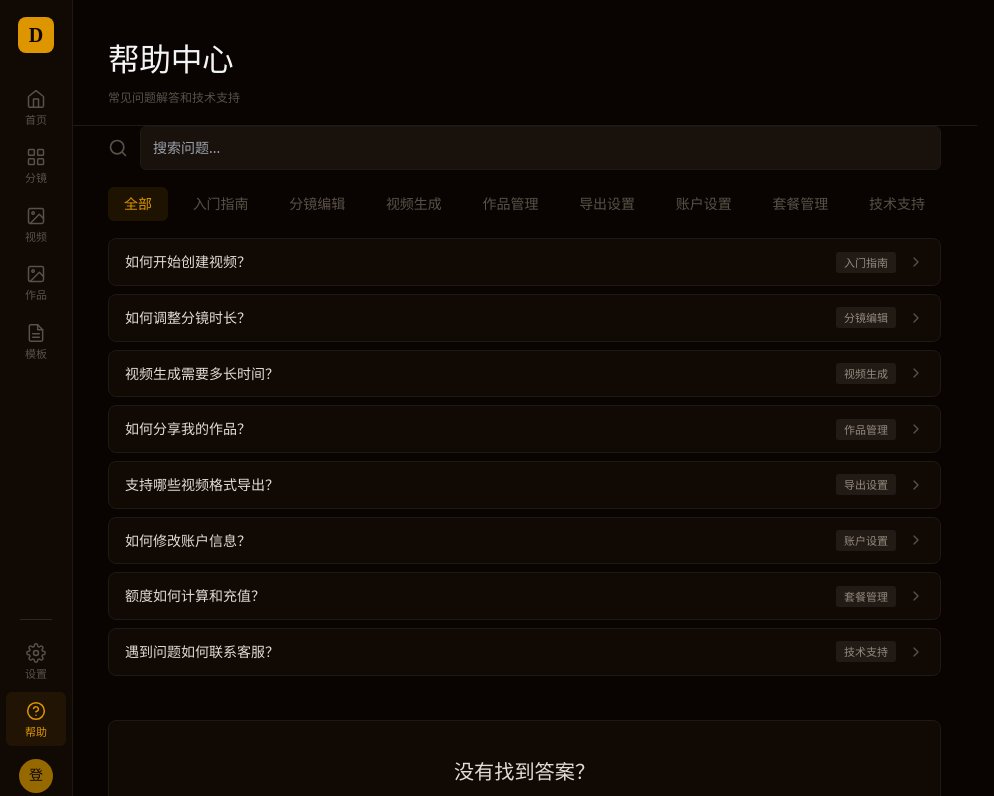
Scenario: 帮助页面测试 › FAQ展开/折叠测试 › 再次点击FAQ折叠答案
This screenshot has width=994, height=796.
Click the button "如何开始创建视频？ 入门指南": [188, 262] box [109,239,940,285]
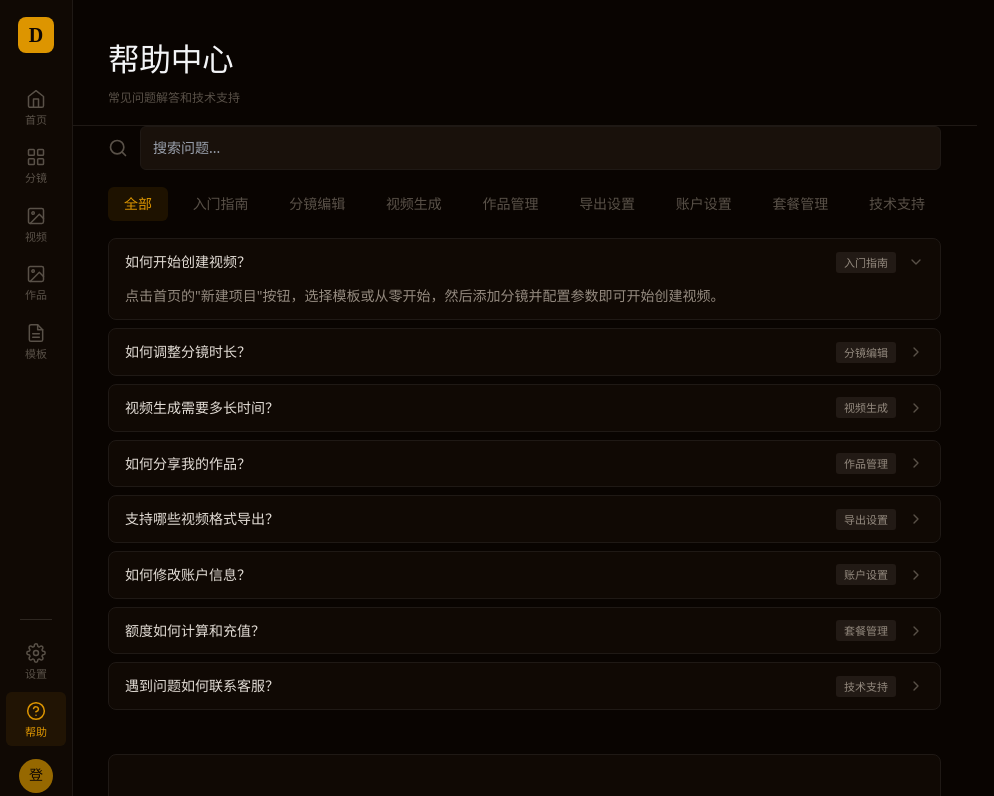
Result: the text "点击首页的\"新建项目\"按钮，选择模板或从零开始，然后添加分镜并配置参数即可开始创建视频。" is shown at [125,286,724,305]
Click the button "如何开始创建视频？ 入门指南": [188, 262] box [109,239,940,285]
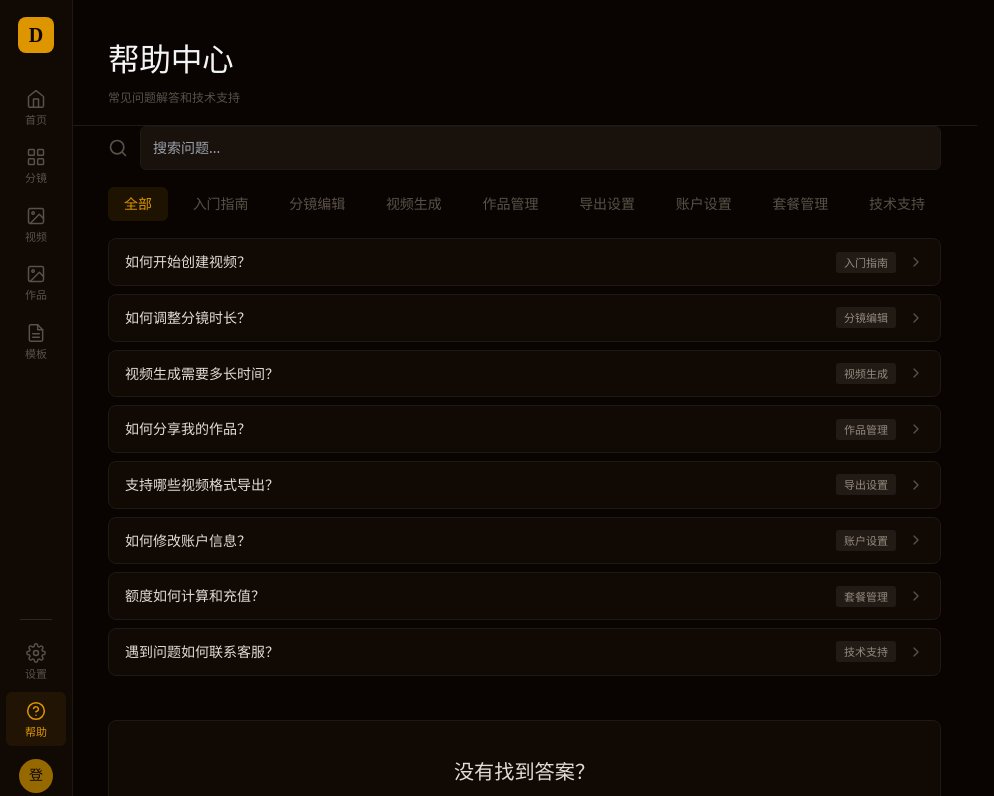
Result: the text "点击首页的\"新建项目\"按钮" is gone
